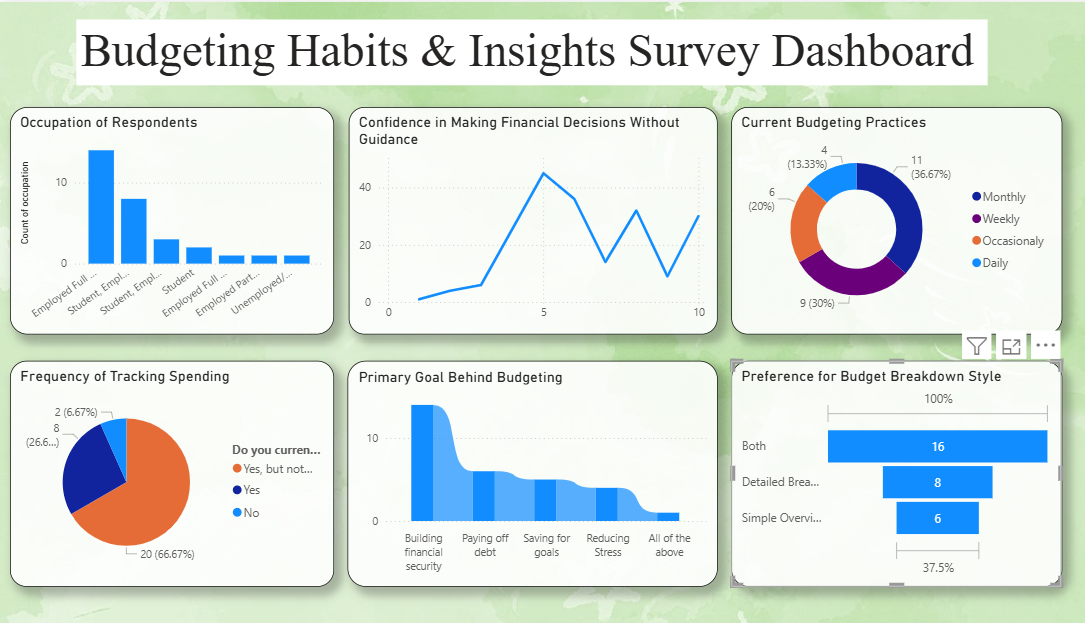

The page's visual inventory and layout, read from the dashboard file:
{"tool":"powerbi","page":{"name":"Page 1","canvas":[1280,720],"ordinal":0},"visuals":[{"type":"columnChart","title":"Occupation of Respondents","fields":{"Category":["Budgeting Tool_App Feedback (Responses) - Form Responses 1 (1).occupation"],"Y":["CountNonNull(Budgeting Tool_App Feedback (Responses) - Form Responses 1 (1).occupation)"]},"box":[27.1,120,370,260],"z":0},{"type":"pieChart","title":"Frequency of Tracking Spending","fields":{"Category":["Budgeting Tool_App Feedback (Responses) - Form Responses 1 (1).Do you currently budget?"],"Y":["CountNonNull(Budgeting Tool_App Feedback (Responses) - Form Responses 1 (1).Do you currently budget?)"]},"box":[28.6,410,370,258.6],"z":1},{"type":"donutChart","title":"Current Budgeting Practices","fields":{"Category":["Budgeting Tool_App Feedback (Responses) - Form Responses 1 (1).How often do you track or review your spending"],"Y":["CountNonNull(Budgeting Tool_App Feedback (Responses) - Form Responses 1 (1).How often do you track or review your spendi"]},"box":[865.7,120,377.1,260],"z":2},{"type":"ribbonChart","title":"Primary Goal Behind Budgeting","fields":{"Y":["CountNonNull(Budgeting Tool_App Feedback (Responses) - Form Responses 1 (1).What is the main goal behind your budgeting?"],"Category":["Budgeting Tool_App Feedback (Responses) - Form Responses 1 (1).What is the main goal behind your budgeting?"]},"box":[418.6,410,422.9,258.6],"z":3},{"type":"lineChart","title":"Confidence in Making Financial Decisions Without Guidance","fields":{"Y":["Sum(Budgeting Tool_App Feedback (Responses) - Form Responses 1 (1).On a scale of 1–10, how confident are you in making f"],"Category":["Budgeting Tool_App Feedback (Responses) - Form Responses 1 (1).On a scale of 1–10, how confident are you in making finan"]},"box":[420,120,421.4,260],"z":4},{"type":"funnel","title":"Preference for Budget Breakdown Style","fields":{"Category":["Budgeting Tool_App Feedback (Responses) - Form Responses 1 (1).Do you prefer a simple overview of your finances, or more"],"Y":["CountNonNull(Budgeting Tool_App Feedback (Responses) - Form Responses 1 (1).Do you prefer a simple overview of your fina"]},"box":[862.9,410,377.1,258.6],"z":5},{"type":"textbox","box":[86.7,20,1041.7,75],"z":6}]}

Visuals, with their boxes in screenshot pixels (x1, y1, x2, y2), scaled from the page's 1280x720 canvas onto the 1085x623 screenshot:
"Occupation of Respondents" columnChart: (23, 104, 337, 329)
"Frequency of Tracking Spending" pieChart: (24, 355, 338, 579)
"Current Budgeting Practices" donutChart: (734, 104, 1053, 329)
"Primary Goal Behind Budgeting" ribbonChart: (355, 355, 713, 579)
"Confidence in Making Financial Decisions Without Guidance" lineChart: (356, 104, 713, 329)
"Preference for Budget Breakdown Style" funnel: (731, 355, 1051, 579)
textbox: (73, 17, 956, 82)
